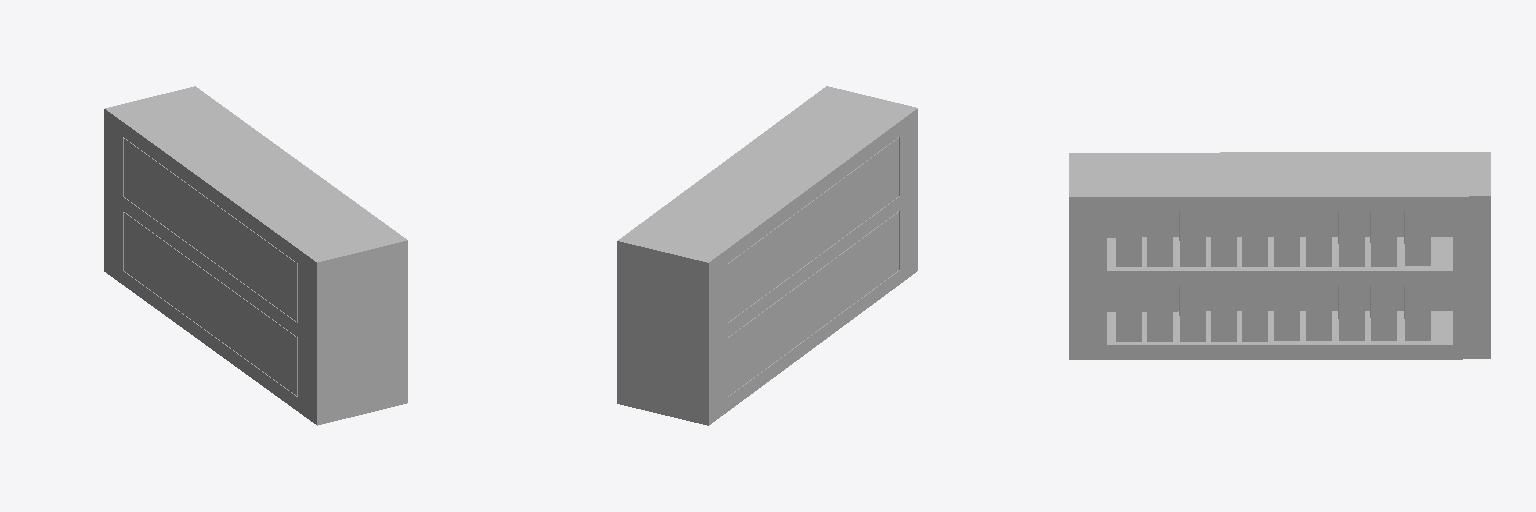
Rendered from pokeLibrero.obj.
3 views of the same model, side by side, from view 1: azimuth 30°, elevation 25°; view 2: azimuth 150°, elevation 25°; view 3: azimuth 270°, elevation 25° (orthographic).
Visible parts, largest first — view 1: estanteriaPokemon1:pCube3; view 2: estanteriaPokemon1:pCube3; view 3: estanteriaPokemon1:pCube3.
Boxes of the visible parts, x1,y1,x2,y2 form: estanteriaPokemon1:pCube3: [104, 86, 407, 425]; estanteriaPokemon1:pCube3: [617, 86, 917, 425]; estanteriaPokemon1:pCube3: [1069, 152, 1490, 359].
Bounding box in the file's own units: 0.5894 × 0.9841 × 2.31.